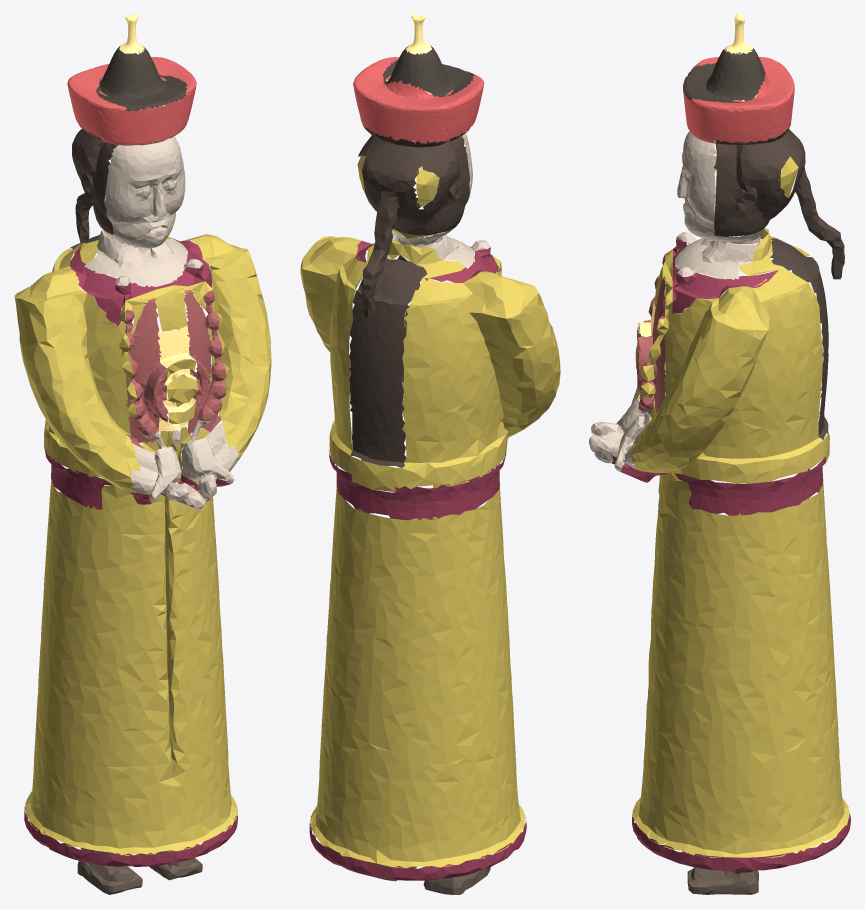
Rendered from tripo-court-emperor.glb.
The picture shows the model from 3 angles, left to right: view 1: azimuth 30°, elevation 25°; view 2: azimuth 150°, elevation 25°; view 3: azimuth 270°, elevation 25°; orthographic projection.
Parts seen in each view (by area): view 1: tripo_node_c922034d-d326-4699-a9b4-547ad8f996ee; view 2: tripo_node_c922034d-d326-4699-a9b4-547ad8f996ee; view 3: tripo_node_c922034d-d326-4699-a9b4-547ad8f996ee.
Boxes of the visible parts, bbox=[...] form: tripo_node_c922034d-d326-4699-a9b4-547ad8f996ee: bbox=[14, 14, 271, 894]; tripo_node_c922034d-d326-4699-a9b4-547ad8f996ee: bbox=[300, 14, 560, 894]; tripo_node_c922034d-d326-4699-a9b4-547ad8f996ee: bbox=[589, 14, 850, 894].
Bounding box in the file's own units: 0.2817 × 0.9999 × 0.2774.
